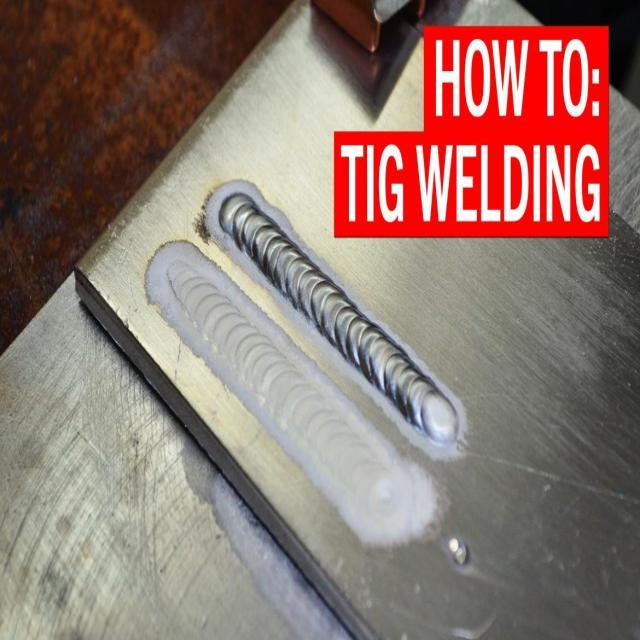Good Weld: (320, 249, 434, 384), (238, 194, 310, 286)
